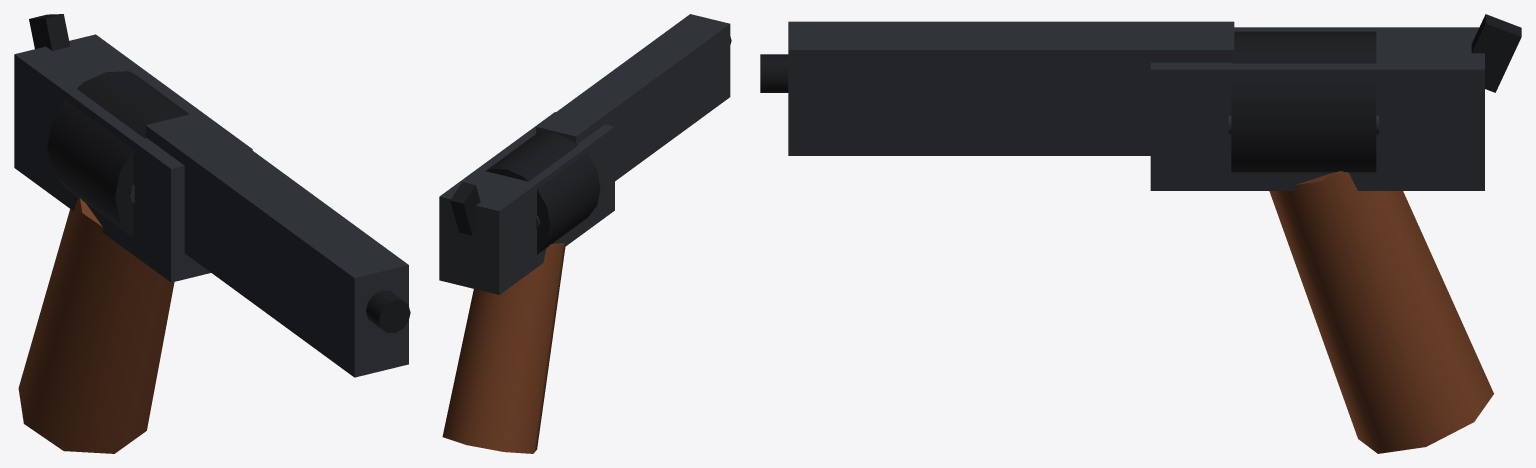
Rendered from revolver.glb.
3 views of the same model, side by side, from view 1: azimuth 30°, elevation 25°; view 2: azimuth 150°, elevation 25°; view 3: azimuth 270°, elevation 25° (orthographic). The views are drawn at different scales.
Visible parts, largest first — view 1: Gun_Revolver, cylinder; view 2: Gun_Revolver, cylinder; view 3: Gun_Revolver, cylinder.
Boxes of the visible parts, x1,y1,x2,y2 form: Gun_Revolver: (14,14,410,453); cylinder: (47,71,189,237); Gun_Revolver: (439,14,731,453); cylinder: (485,133,600,254); Gun_Revolver: (760,14,1521,453); cylinder: (1228,31,1378,172).
Size of the model in its own units: 0.052 by 0.1664 by 0.2731.
